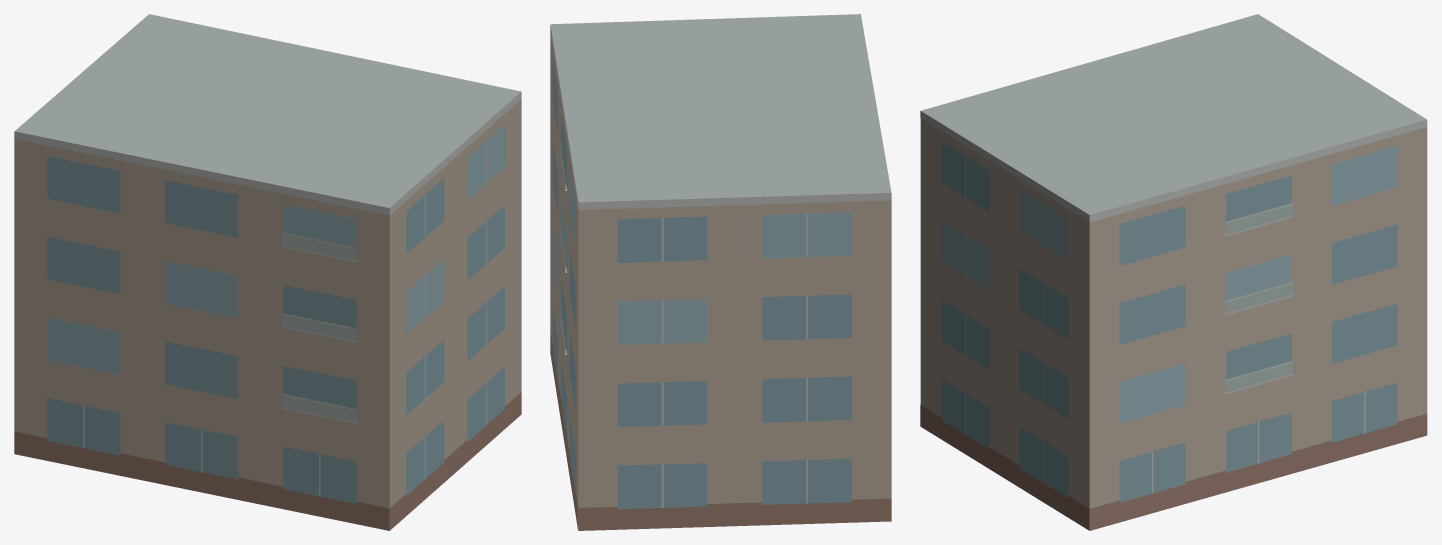
The model's file is survey-upis-32888470.glb.
The picture shows the model from 3 angles, left to right: view 1: azimuth 30°, elevation 25°; view 2: azimuth 150°, elevation 25°; view 3: azimuth 270°, elevation 25°; orthographic projection. The views are drawn at different scales.
Parts seen in each view (by area): view 1: survey-upis-32888470.tmp; view 2: survey-upis-32888470.tmp; view 3: survey-upis-32888470.tmp.
Part boxes in pixels (<box>): survey-upis-32888470.tmp: <box>14,14,521,530</box>; survey-upis-32888470.tmp: <box>550,14,891,530</box>; survey-upis-32888470.tmp: <box>920,14,1427,530</box>.
Bounding box in the file's own units: 14.42 × 10.55 × 15.35.
